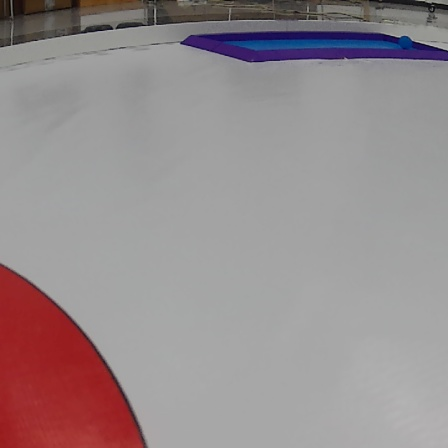blue: (398, 34, 410, 48)
blue_aim: (181, 29, 448, 61)
red_base: (1, 262, 149, 448)
